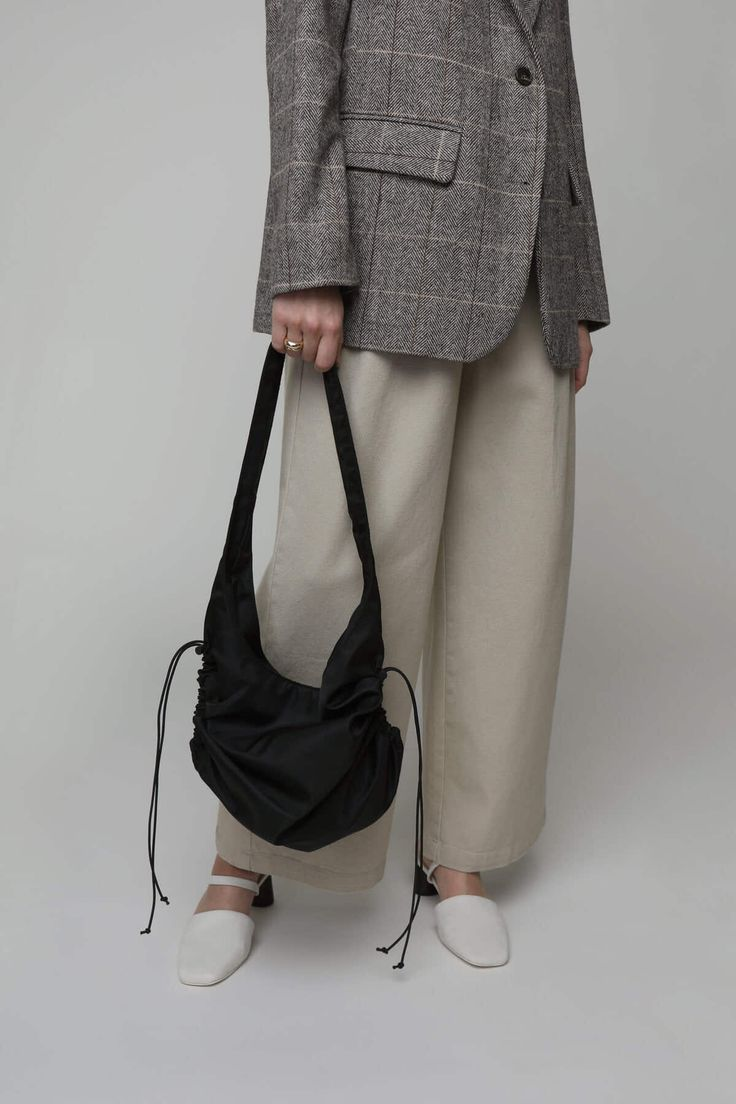nylon: (190, 325, 405, 850)
